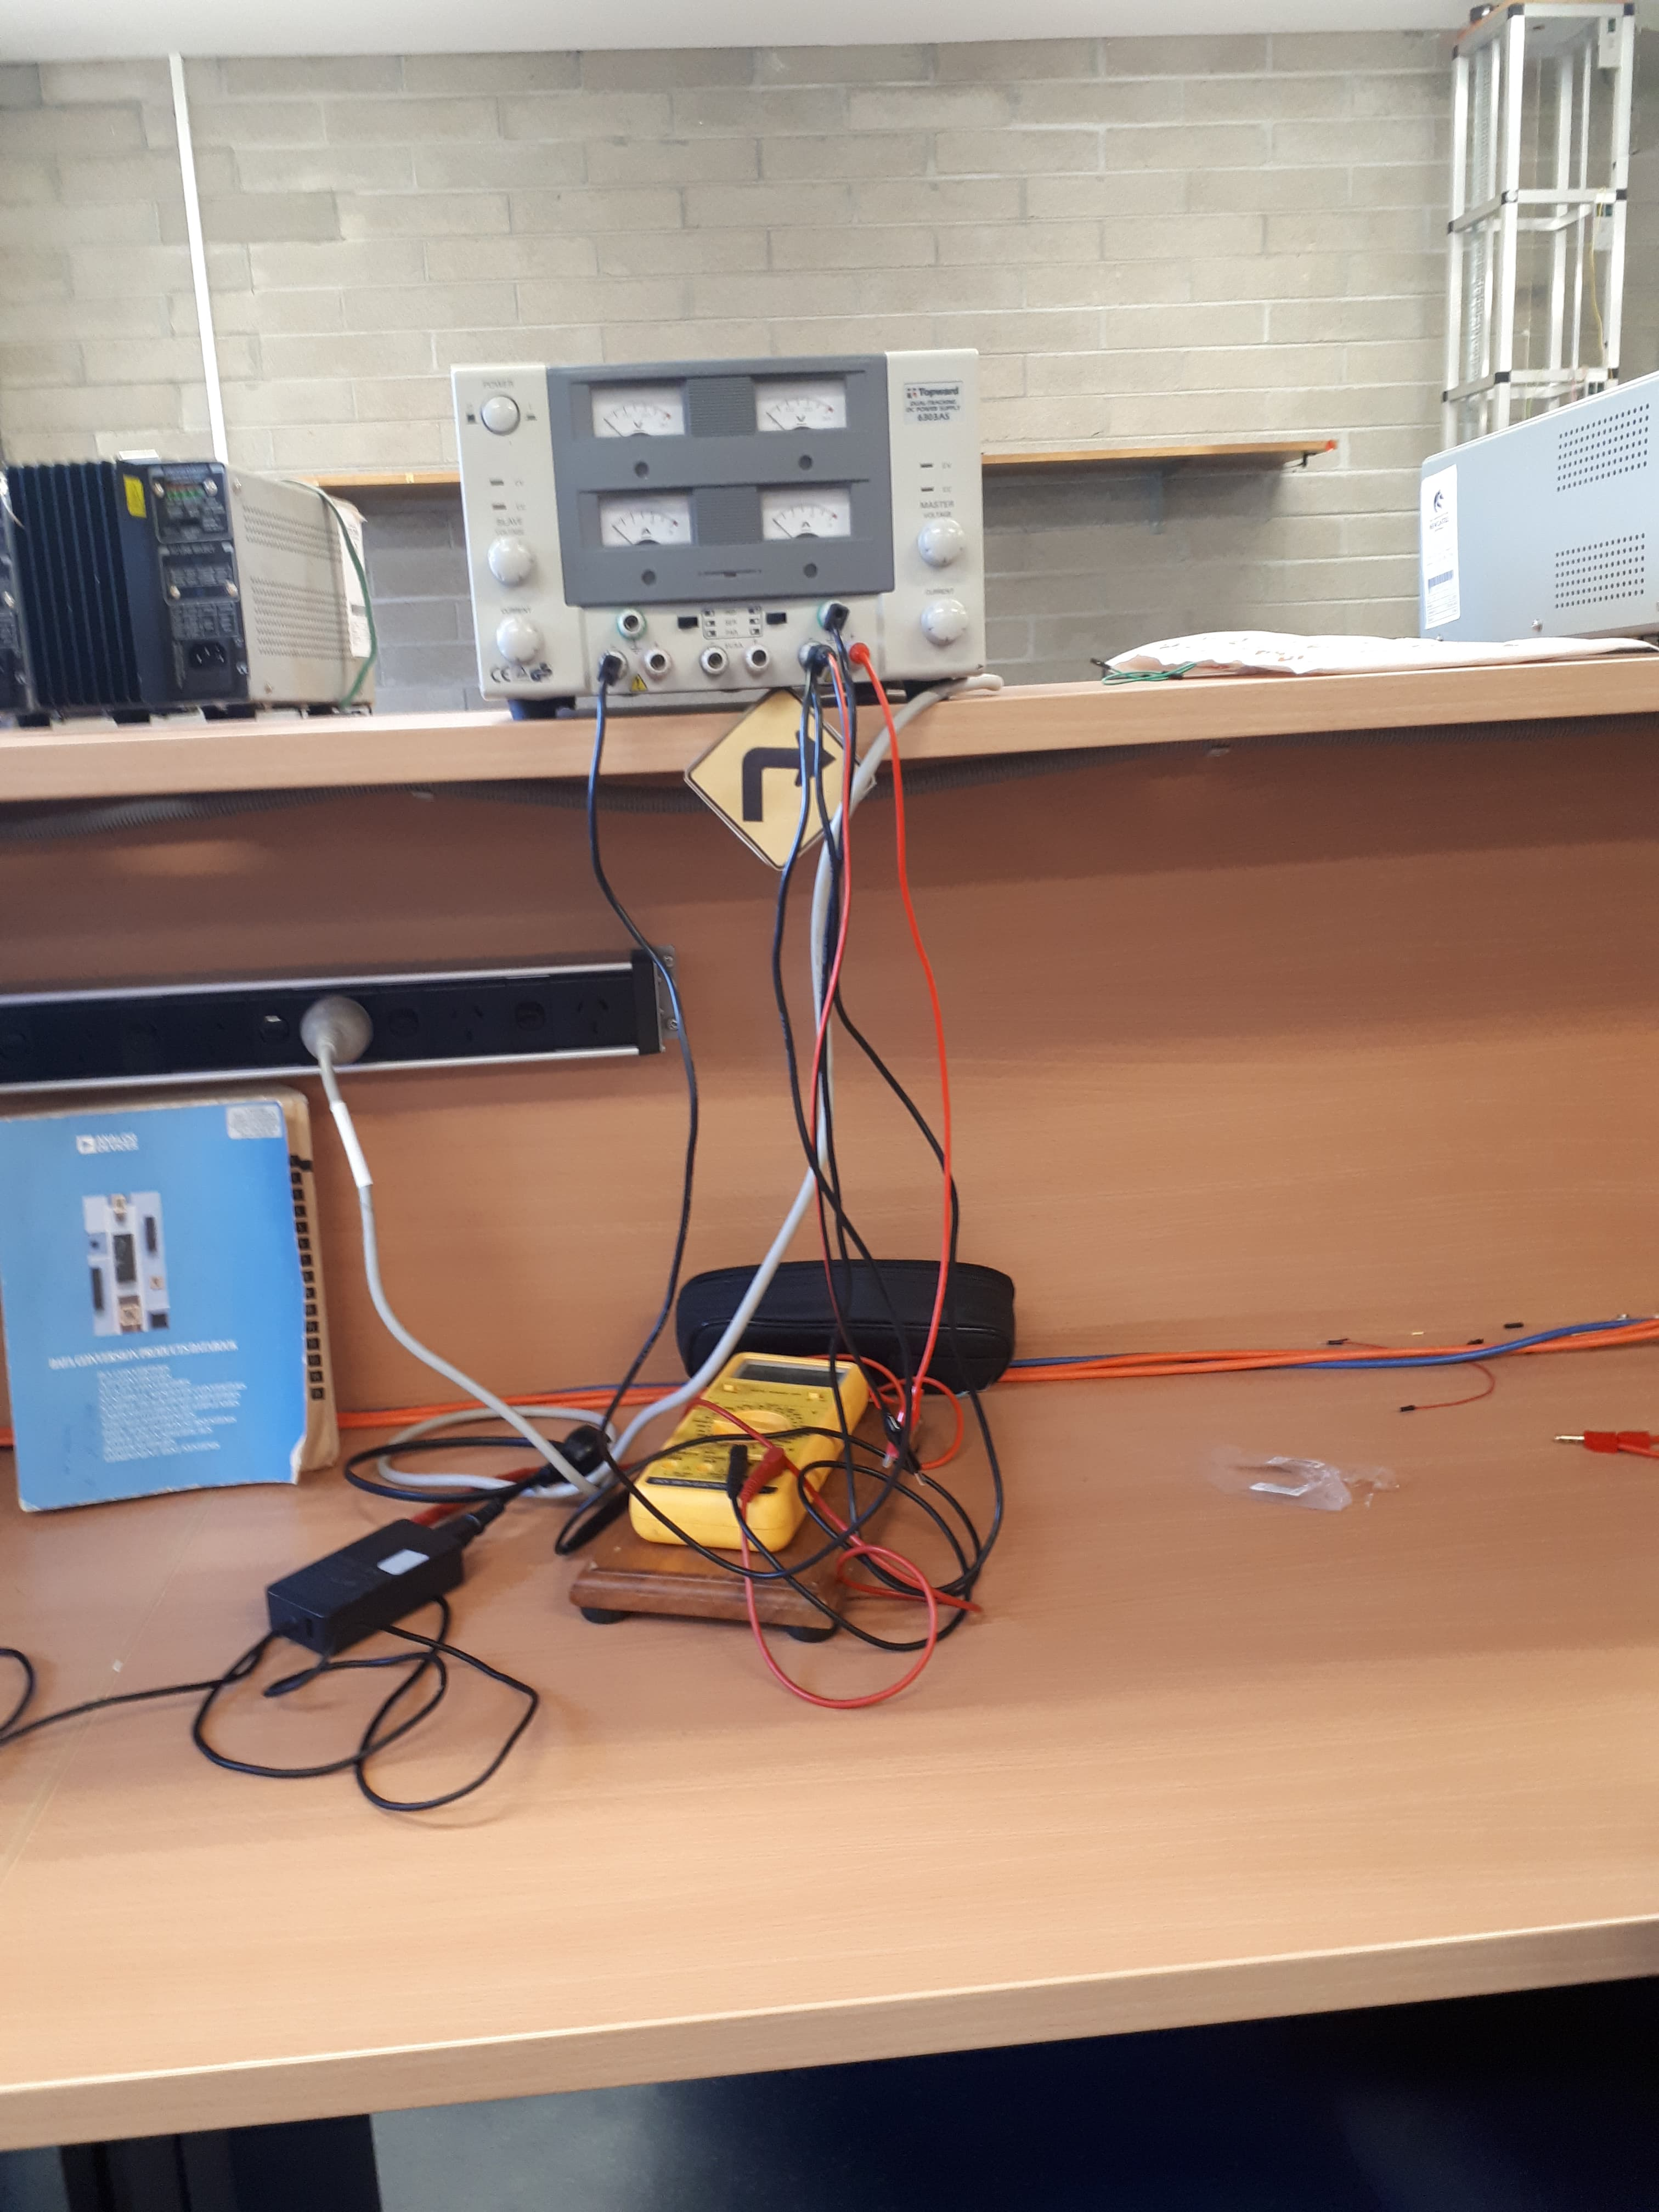right: (674, 679, 890, 883), (730, 693, 920, 920), (781, 697, 885, 813)
